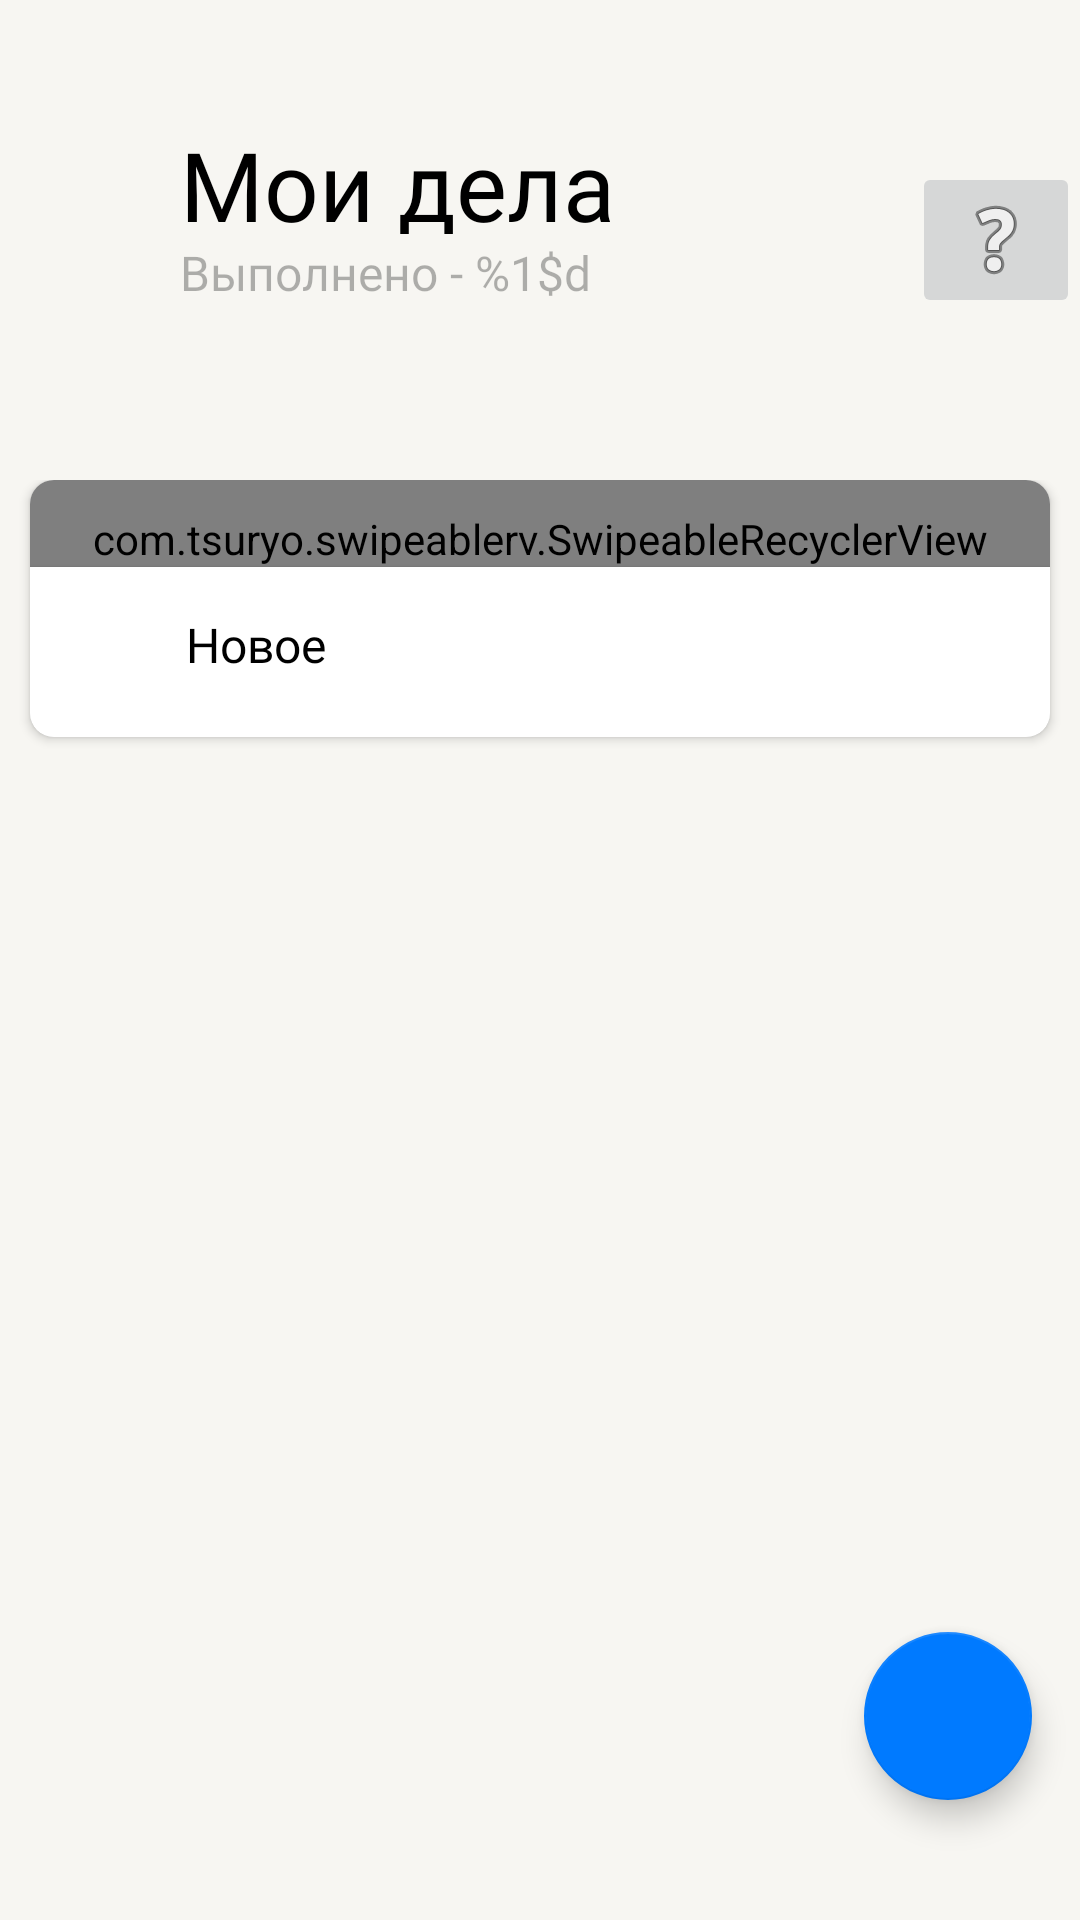

Icons on this 1080w x 1920h Android screen, each with its box as (x1, y1, x2, y2):
help: (924, 180, 1068, 300)
